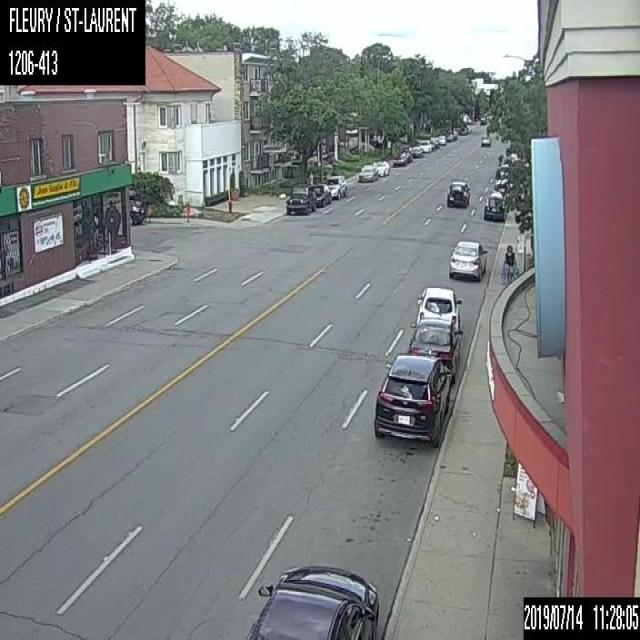pedestrian: (500, 244, 518, 285)
vehicle: (246, 564, 379, 639), (373, 353, 450, 448), (406, 318, 462, 382), (415, 286, 461, 326), (448, 238, 486, 278), (286, 182, 314, 215), (445, 178, 470, 206), (323, 174, 347, 198), (484, 195, 506, 221), (128, 190, 144, 224), (312, 182, 331, 205), (358, 164, 378, 181), (372, 160, 388, 175), (392, 152, 406, 166), (419, 138, 431, 152), (401, 148, 412, 160), (410, 145, 422, 156), (479, 135, 490, 145), (478, 111, 486, 124), (438, 134, 446, 144), (445, 132, 452, 141), (458, 127, 467, 134), (430, 138, 435, 150), (434, 138, 439, 148), (452, 131, 457, 140)
